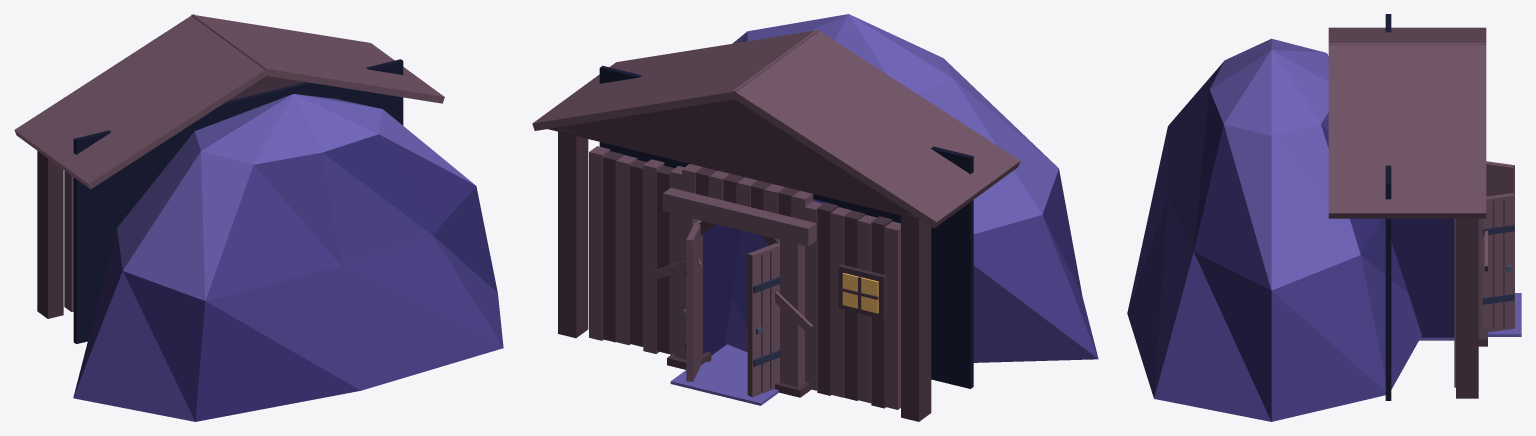
Rendered from Mine_Door_Wood_Open.obj.
The picture shows the model from 3 angles, left to right: view 1: azimuth 30°, elevation 25°; view 2: azimuth 150°, elevation 25°; view 3: azimuth 270°, elevation 25°; orthographic projection. The views are drawn at different scales.
Visible parts, largest first — view 1: Mine_Door_Wood_Open; view 2: Mine_Door_Wood_Open; view 3: Mine_Door_Wood_Open.
Part boxes in pixels (<box>): Mine_Door_Wood_Open: <box>14,14,503,421</box>; Mine_Door_Wood_Open: <box>532,14,1098,421</box>; Mine_Door_Wood_Open: <box>1127,14,1521,421</box>.
Bounding box in the file's own units: 9.61 × 5.61 × 7.25.
